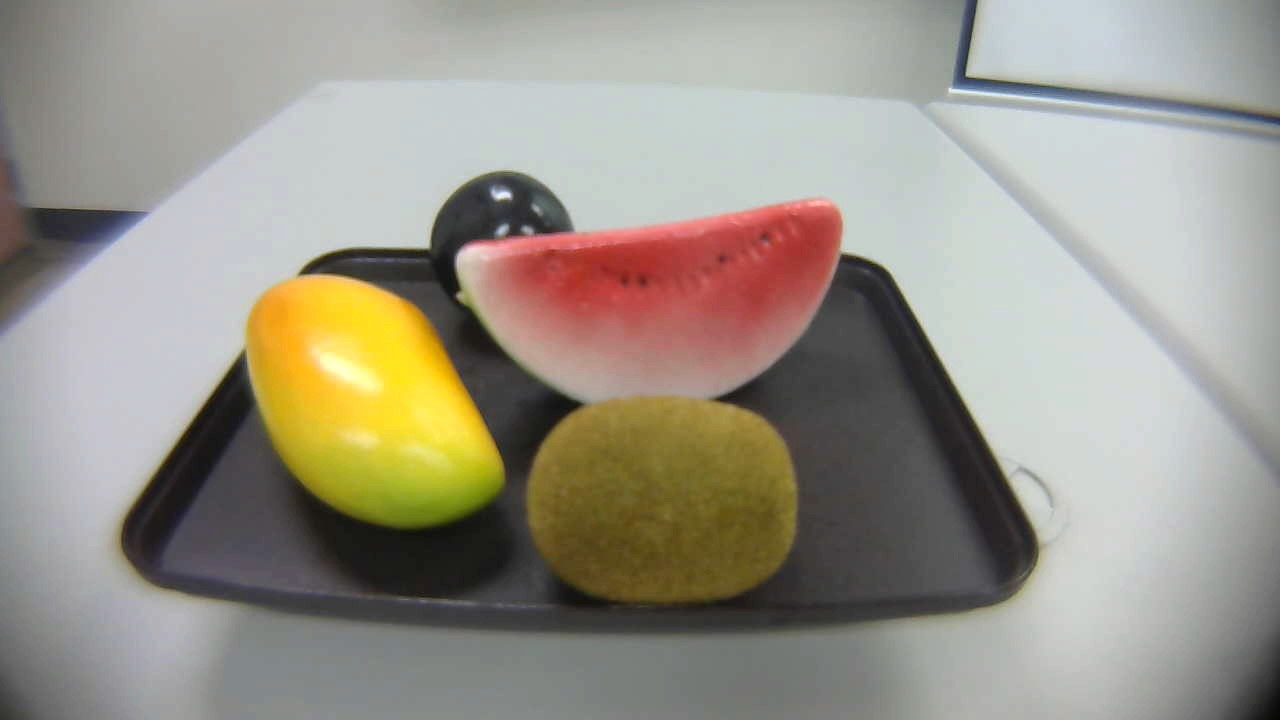kiwi fruit: (525, 386, 806, 615)
mangosteen: (429, 173, 576, 317)
water melon: (448, 198, 845, 414)
yellow mango: (238, 269, 518, 549)
